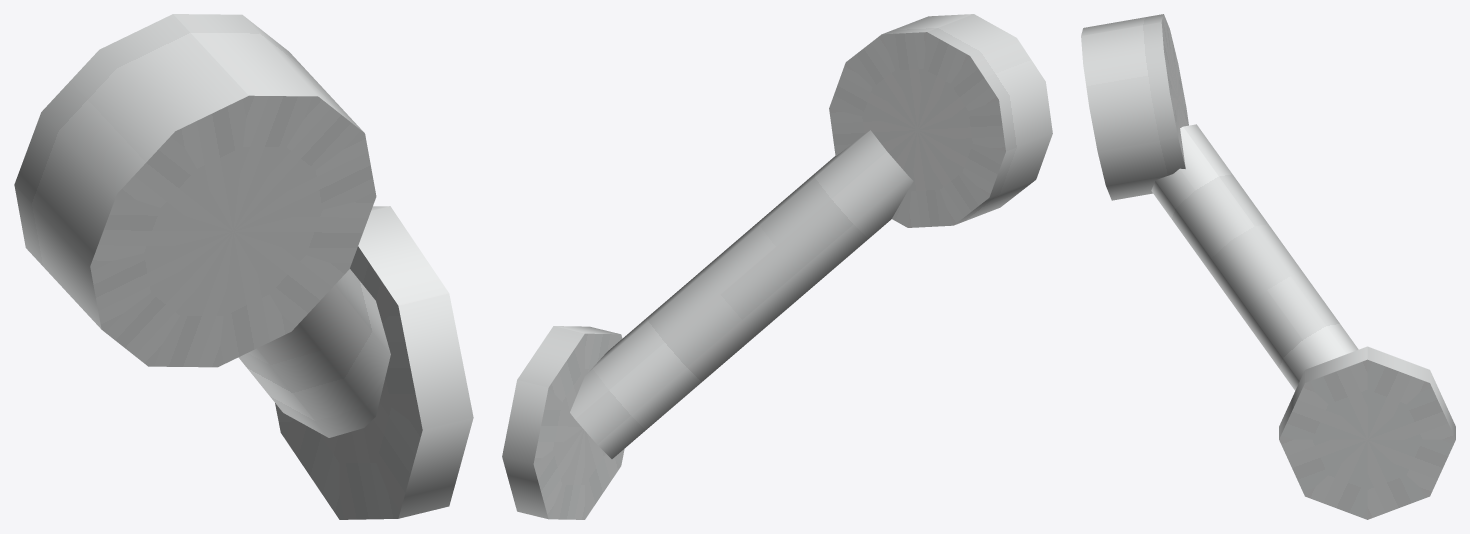
Rendered from nycsignalarm_stub_57.obj.
3 views of the same model, side by side, from view 1: azimuth 30°, elevation 25°; view 2: azimuth 150°, elevation 25°; view 3: azimuth 270°, elevation 25° (orthographic). The views are drawn at different scales.
Parts seen in each view (by area): view 1: nycsignalarm_stub_57; view 2: nycsignalarm_stub_57; view 3: nycsignalarm_stub_57.
Part boxes in pixels (x1,y1,x2,y2): nycsignalarm_stub_57: [14, 14, 473, 519]; nycsignalarm_stub_57: [502, 14, 1052, 519]; nycsignalarm_stub_57: [1081, 14, 1455, 519].
Size of the model in its own units: 0.6733 by 0.854 by 0.7418.
